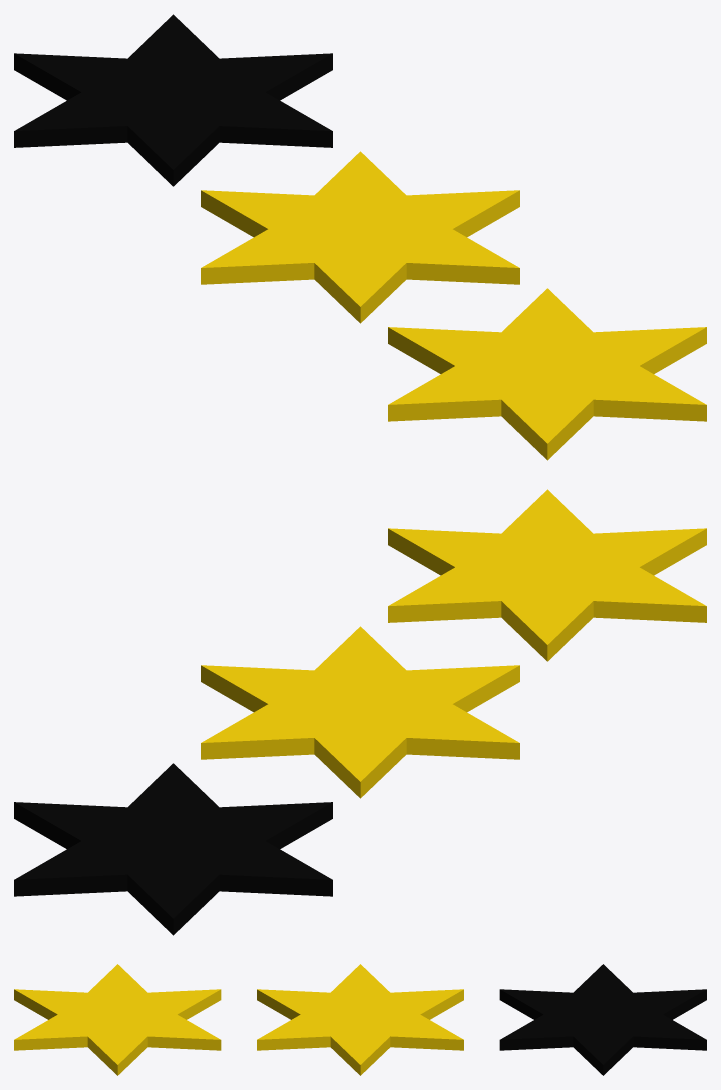
File: Stars_02.FBX
3 views of the same model, one above another, from view 1: azimuth 30°, elevation 25°; view 2: azimuth 150°, elevation 25°; view 3: azimuth 270°, elevation 25° (orthographic). The views are drawn at different scales.
Visible parts, largest first — view 1: Stars_02; view 2: Stars_02; view 3: Stars_02.
Boxes of the visible parts, x1,y1,x2,y2 form: Stars_02: (14,14,706,460); Stars_02: (14,489,706,935); Stars_02: (14,964,706,1075).
Bounding box in the file's own units: 100 × 5 × 290.
